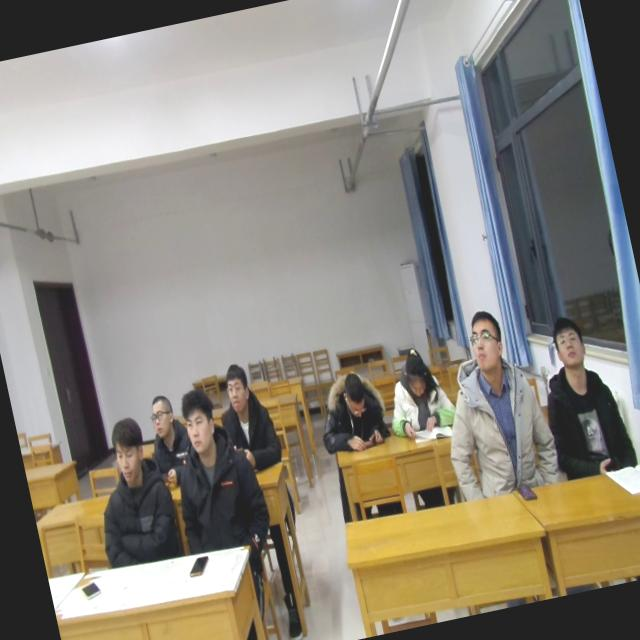down: (396, 344, 433, 400), (336, 367, 372, 422)
lookup: (459, 304, 512, 383), (101, 406, 151, 488), (173, 385, 226, 462), (546, 312, 588, 378), (216, 359, 256, 416), (142, 388, 178, 441)
sit: (420, 304, 564, 508), (158, 374, 274, 556), (529, 305, 638, 484), (74, 407, 182, 568), (379, 339, 461, 444), (213, 356, 286, 472), (309, 368, 394, 460), (133, 381, 190, 467)
